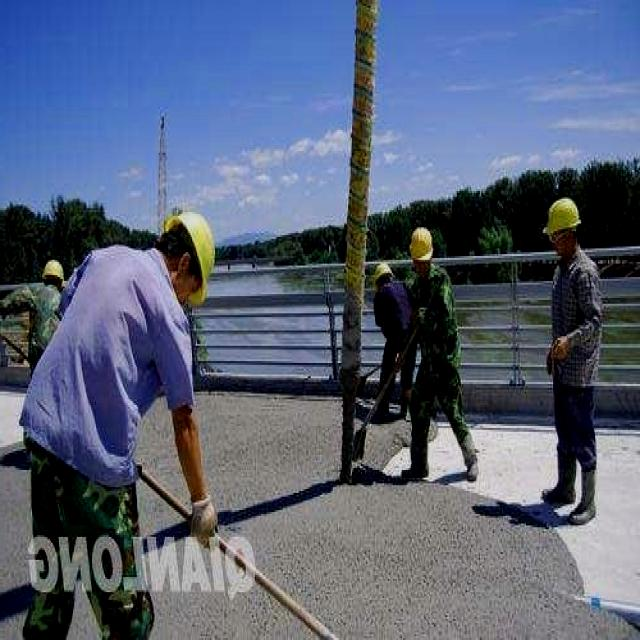face_nomask: (172, 260, 204, 309), (550, 223, 572, 260), (412, 254, 434, 281)
hand_glove: (184, 493, 223, 544)
hand_noglove: (546, 331, 568, 368)
head_helmet: (164, 214, 219, 306), (540, 197, 582, 233), (408, 225, 434, 262), (370, 258, 393, 286), (44, 260, 62, 281)
person: (23, 205, 207, 632), (544, 196, 598, 522), (403, 216, 467, 485), (362, 256, 412, 422), (12, 254, 66, 382)
shoes: (540, 452, 577, 511), (566, 469, 598, 528), (459, 429, 482, 484)
